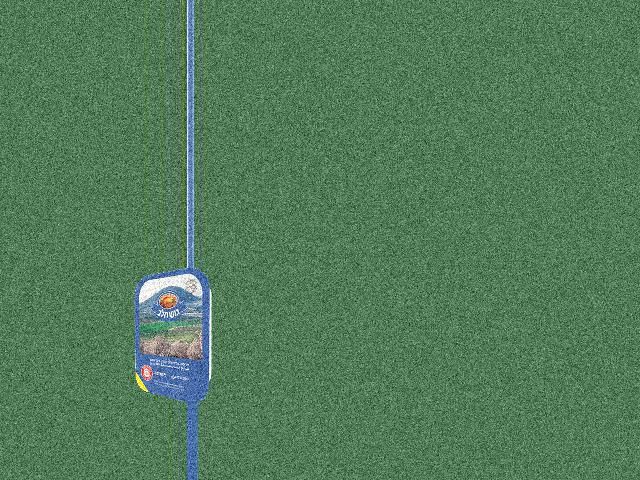cheese: (131, 277, 220, 388)
